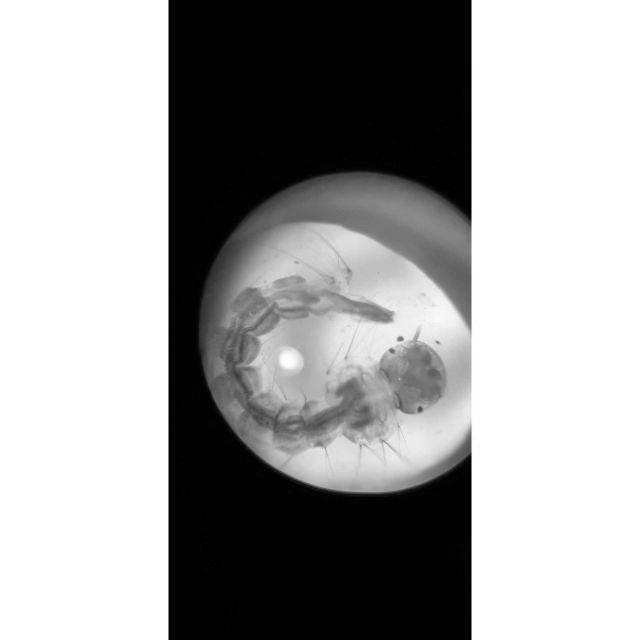larvas: (214, 272, 444, 448)
